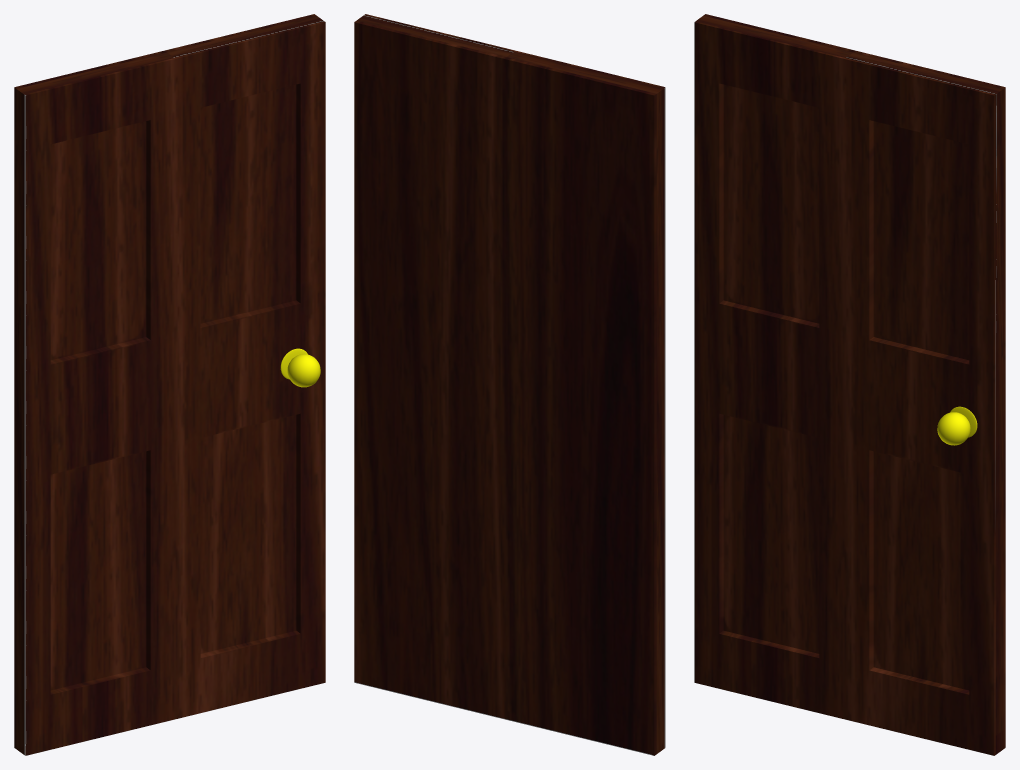
Rendered from Door.fbx.
3 views of the same model, side by side, from view 1: azimuth 30°, elevation 25°; view 2: azimuth 150°, elevation 25°; view 3: azimuth 330°, elevation 25° (orthographic).
Visible parts, largest first — view 1: Door, Doorknob; view 2: Door; view 3: Door, Doorknob.
Boxes of the visible parts, x1=… form: Door: x1=14, y1=14, x2=325, y2=755; Doorknob: x1=287, y1=354, x2=320, y2=387; Door: x1=354, y1=14, x2=665, y2=755; Door: x1=694, y1=14, x2=1005, y2=755; Doorknob: x1=937, y1=412, x2=970, y2=445.
Bounding box in the file's own units: 39.92 × 83.89 × 6.69.
